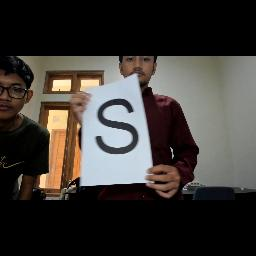s: (91, 95, 141, 159)
